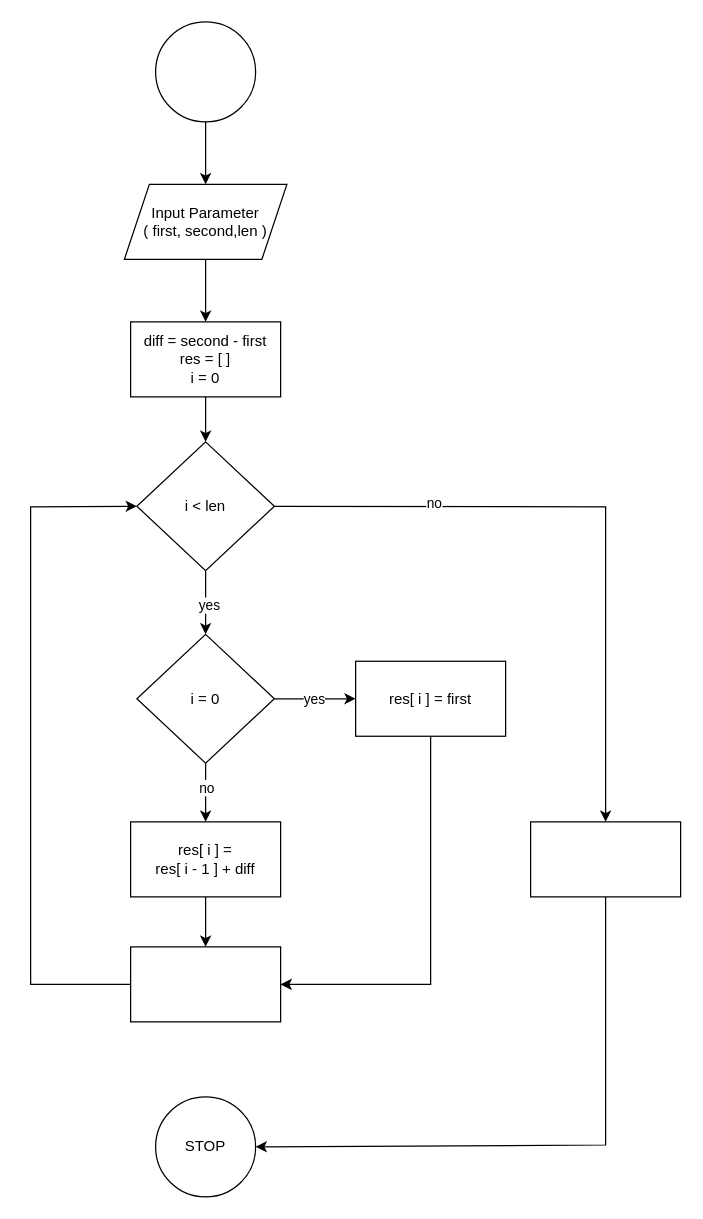
The diagram is 703 pixels wide and 1219 high, and some of its shapes have lost their labels. Here are the shapes that lost their labels. From the top down, the centre of each, then its label:
(205,71): START
(605,859): return res
(205,984): i = i + 1
